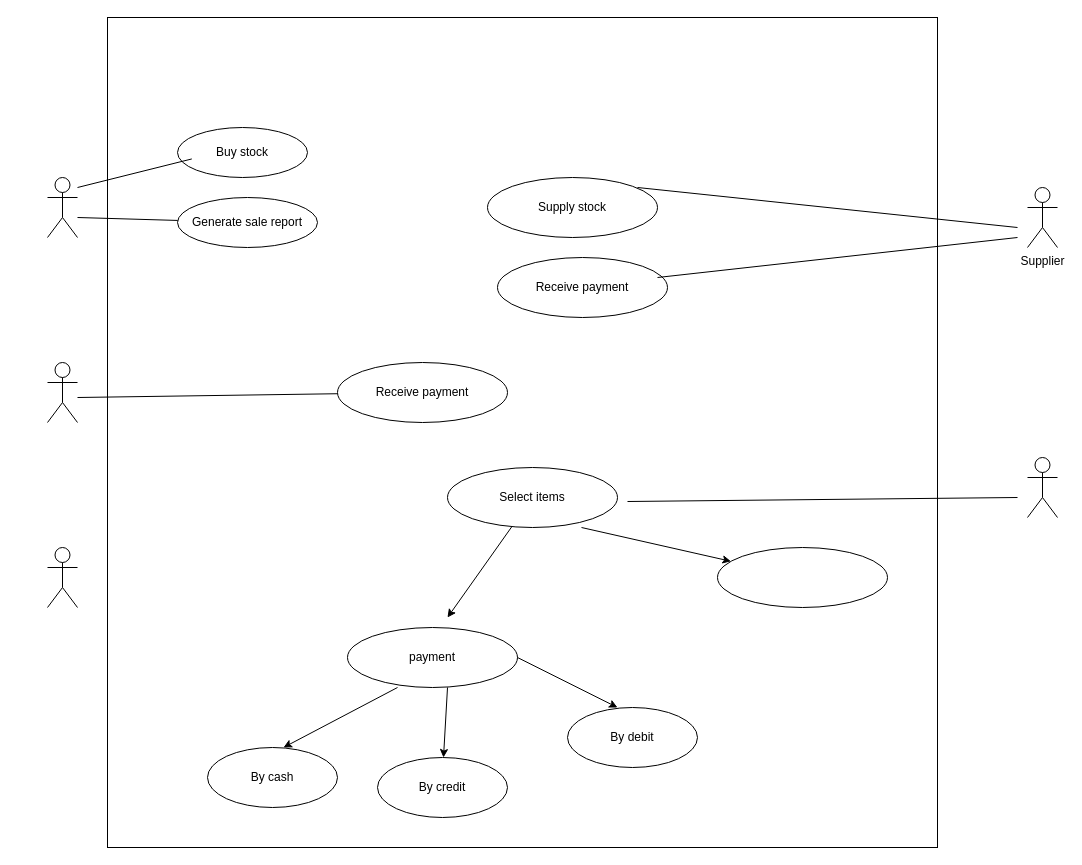
This 1082x865 diagram has some shape labels left out. The centre of each missing label's shape, as x and y in pixels:
"Cashier" goes at (x=1042, y=487).
"Customer" goes at (x=62, y=577).
"inventory system" goes at (x=62, y=392).
"Manager" goes at (x=62, y=207).
"Scan items" goes at (x=802, y=577).
